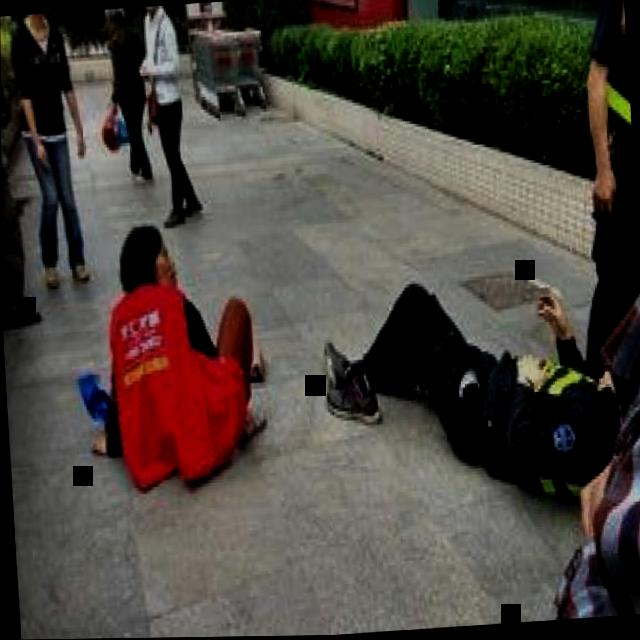Fall-Detected: (300, 237, 639, 521)
